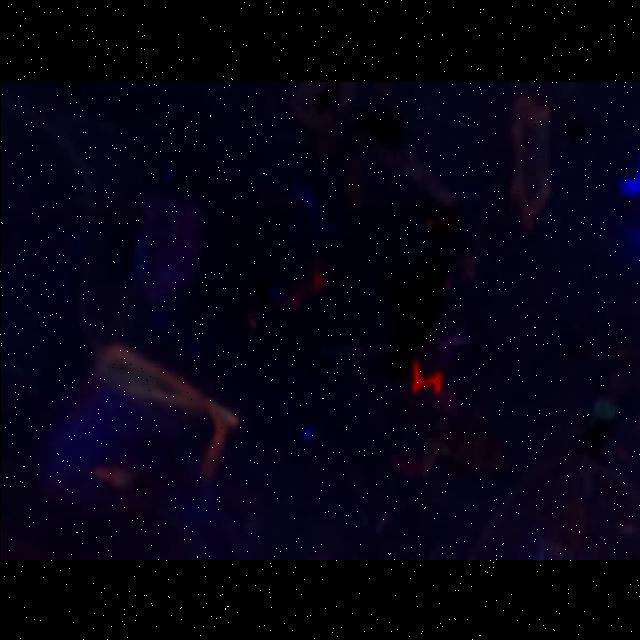Fragment: (38, 345, 237, 502), (509, 95, 549, 228)
